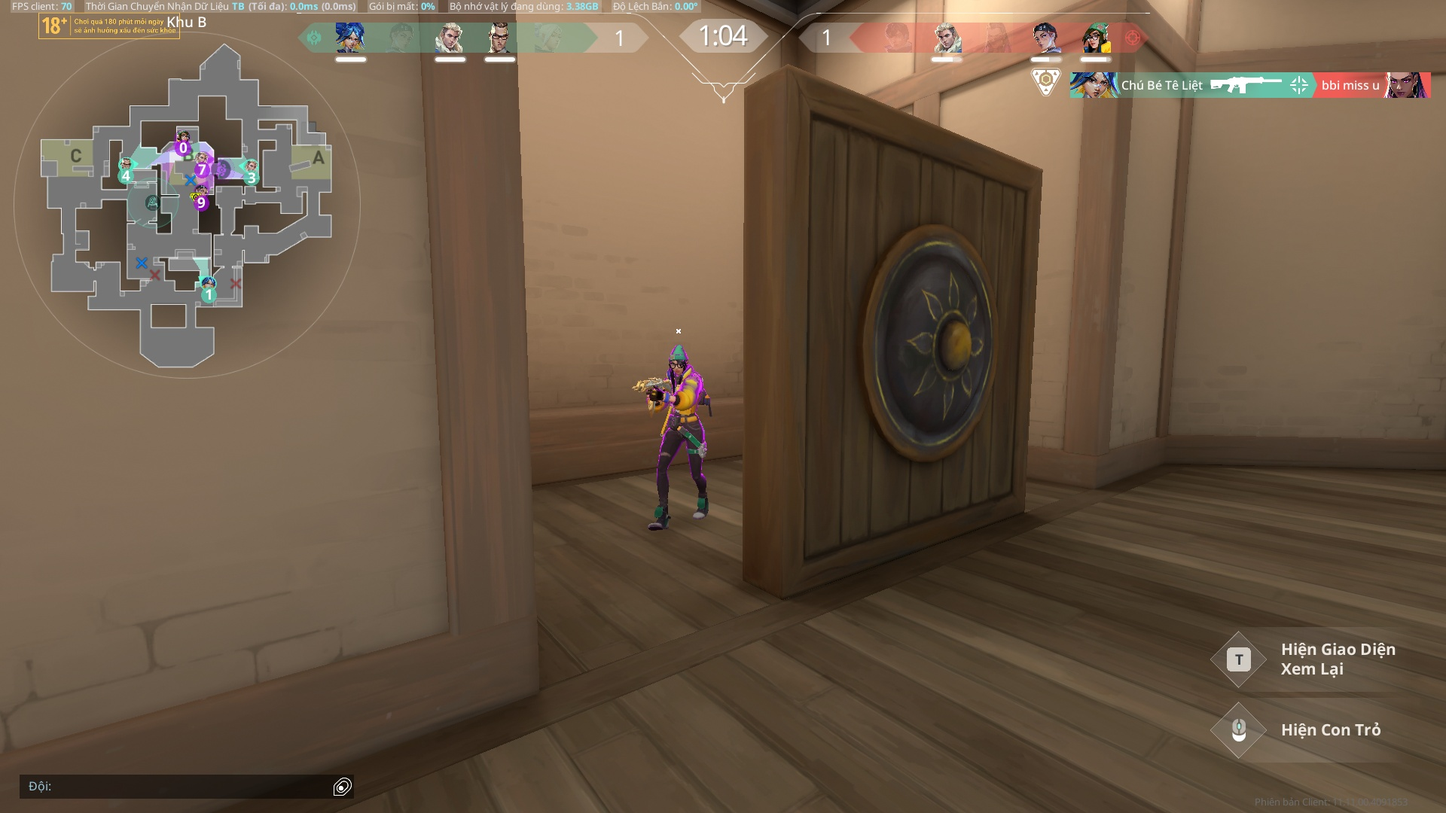body: (660, 369, 703, 413)
head: (668, 353, 691, 375)
